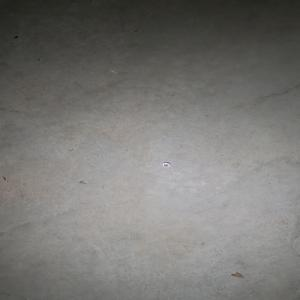Nut: (161, 161, 170, 167)
